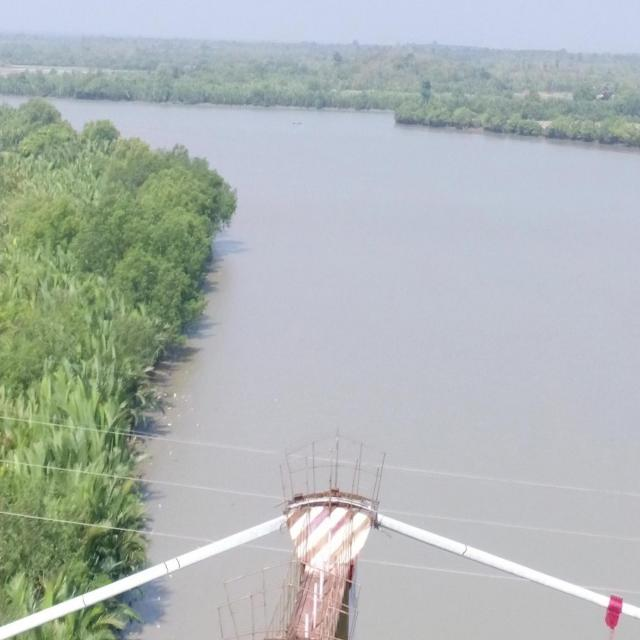crack: (461, 544, 468, 556), (81, 595, 87, 607), (176, 558, 180, 568), (164, 562, 168, 572)
